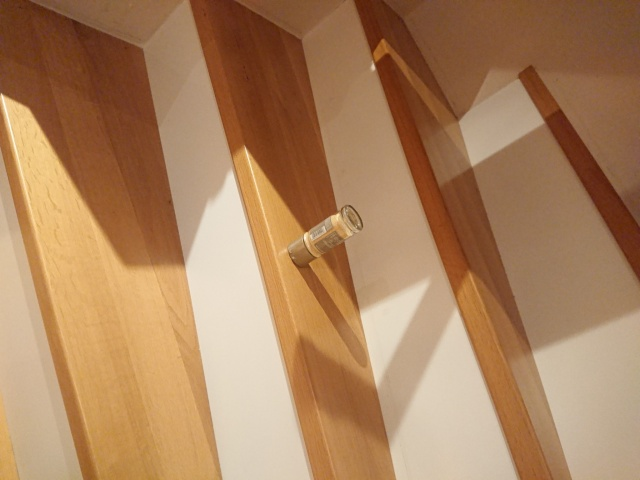Kotanyi Garlic Granules 70g: (285, 202, 366, 271)
